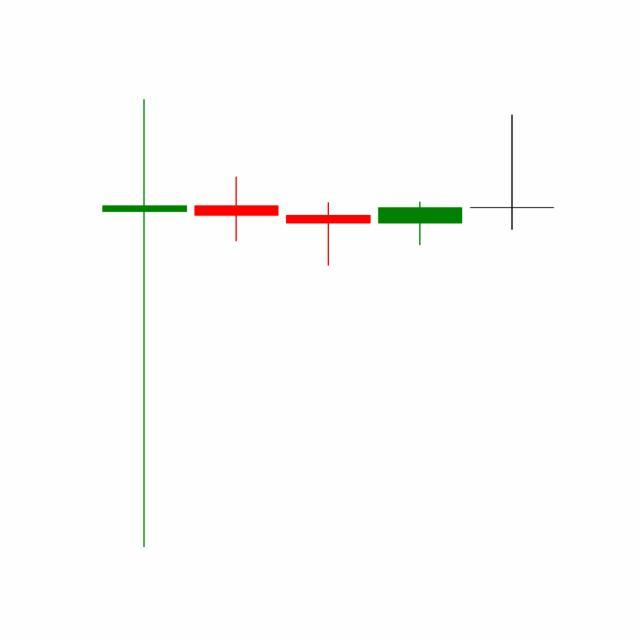Hanging Man: (374, 202, 468, 248)
